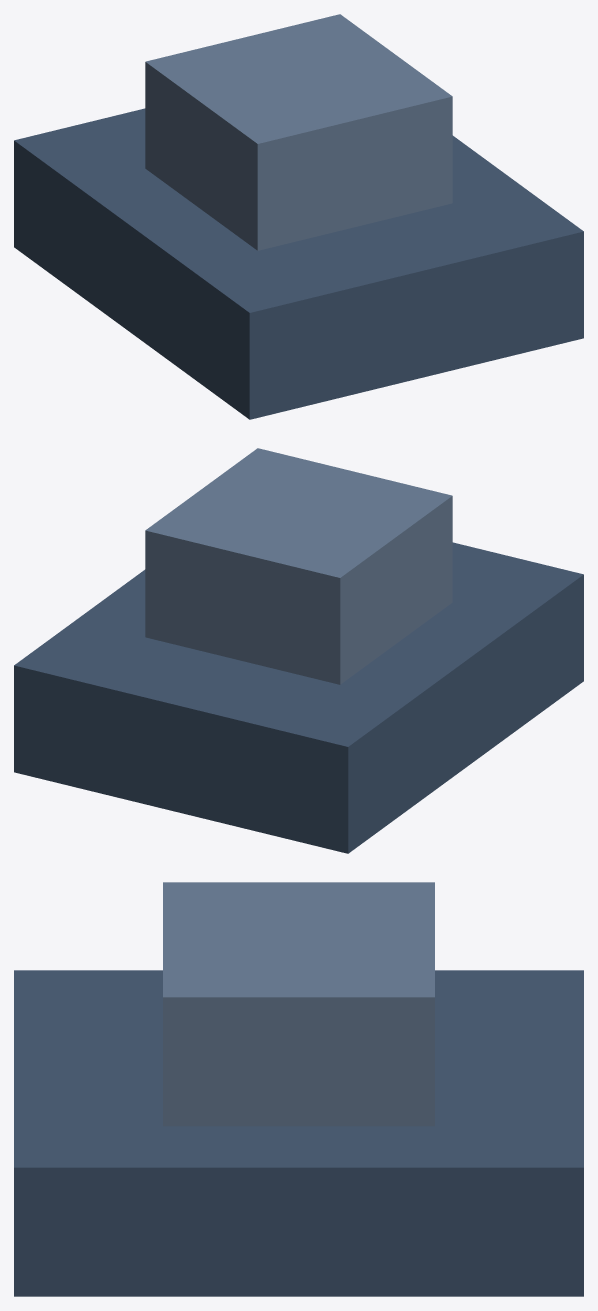
File: battleship_unit.glb
3 views of the same model, one above another, from view 1: azimuth 30°, elevation 25°; view 2: azimuth 150°, elevation 25°; view 3: azimuth 270°, elevation 25° (orthographic). The views are drawn at different scales.
Parts seen in each view (by area): view 1: Hull, Bridge; view 2: Hull, Bridge; view 3: Hull, Bridge.
Part boxes in pixels (box(x1,y1,x2,y2)): Hull: box(14, 108, 583, 419); Bridge: box(145, 14, 452, 250); Hull: box(14, 542, 583, 853); Bridge: box(145, 448, 452, 684); Hull: box(14, 970, 583, 1296); Bridge: box(163, 882, 434, 1126).
Size of the model in its own units: 0.72 by 0.44 by 0.88.
